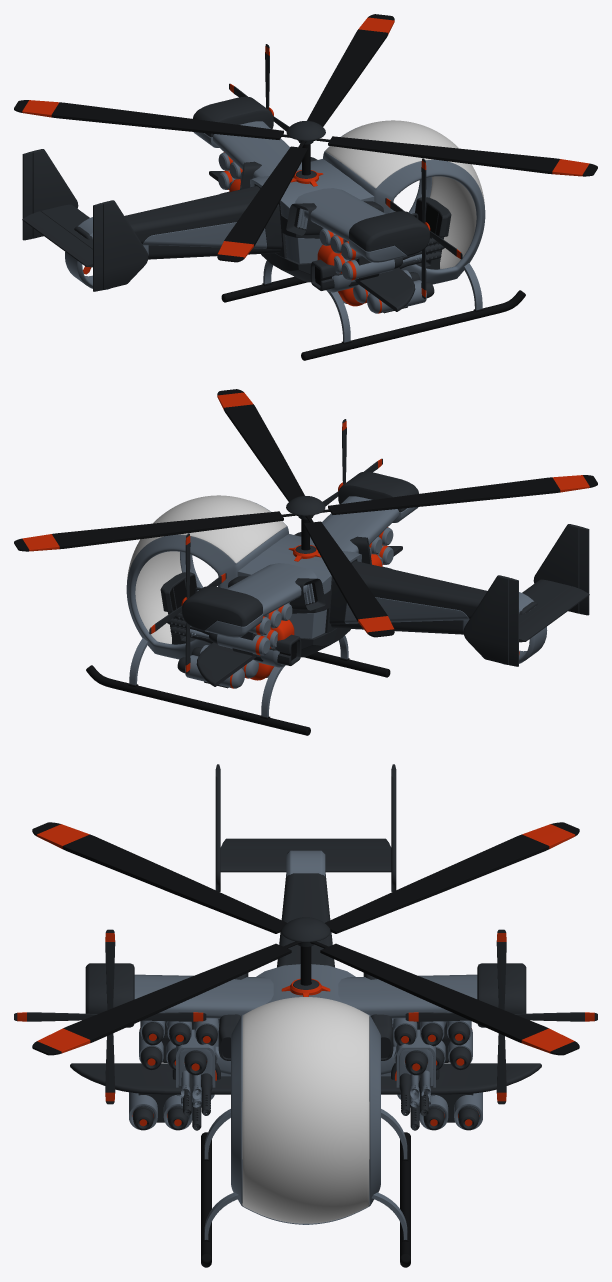
The model's file is modular-helicopter.obj.
3 renders of one model, top to bottom at view 1: azimuth 30°, elevation 25°; view 2: azimuth 150°, elevation 25°; view 3: azimuth 270°, elevation 25°, orthographic. The views are drawn at different scales.
Visible parts, largest first — view 1: Propeller_body_Cube.021, Tilt.TailEnd_Cube.004, Glass_Sphere.006, Tilt.Propeller_motor_Cube.009, Tilt.Wing_Cube.011, Cabin_Sphere, Tilt.Tail2_Cube.012, Ski_Cylinder.030, Tilt.Rocket_launchers_Cylinder.012, Body_top_Sphere.002, Tail_body_Cube.010, Tilt.Tail1_Cube.030 (+9 smaller); view 2: Propeller_body_Cube.021, Tilt.TailEnd_Cube.004, Glass_Sphere.006, Tilt.Propeller_motor_Cube.009, Tilt.Wing_Cube.011, Cabin_Sphere, Tilt.Tail2_Cube.012, Ski_Cylinder.030, Tilt.Rocket_launchers_Cylinder.012, Body_top_Sphere.002, Tail_body_Cube.010, Tilt.Tail1_Cube.030 (+9 smaller); view 3: Glass_Sphere.006, Propeller_body_Cube.021, Tilt.Wing_Cube.011, Tilt.TailEnd_Cube.004, Wing_Cube.002, Tilt.Propeller_Cube.013, Cabin_Sphere, Ski_Cylinder.030, Tilt.Propeller_motor_Cube.009, Rockets.001_Cylinder.006, Tilt.Tail2_Cube.012, Launcher1_Cube.014 (+10 smaller).
Boxes of the visible parts, <box> form: Propeller_body_Cube.021: <box>14,14,597,262</box>; Tilt.TailEnd_Cube.004: <box>22,149,148,291</box>; Glass_Sphere.006: <box>325,120,484,268</box>; Tilt.Propeller_motor_Cube.009: <box>192,96,429,262</box>; Tilt.Wing_Cube.011: <box>212,121,385,241</box>; Cabin_Sphere: <box>323,128,485,284</box>; Tilt.Tail2_Cube.012: <box>74,186,282,249</box>; Ski_Cylinder.030: <box>221,260,525,360</box>; Tilt.Rocket_launchers_Cylinder.012: <box>218,152,394,280</box>; Body_top_Sphere.002: <box>250,159,374,218</box>; Tail_body_Cube.010: <box>65,217,280,289</box>; Tilt.Tail1_Cube.030: <box>142,222,266,248</box>; Propeller_body_Cube.021: <box>14,389,597,637</box>; Tilt.TailEnd_Cube.004: <box>463,524,589,666</box>; Glass_Sphere.006: <box>127,495,286,643</box>; Tilt.Propeller_motor_Cube.009: <box>182,471,419,637</box>; Tilt.Wing_Cube.011: <box>226,496,399,616</box>; Cabin_Sphere: <box>126,503,288,659</box>; Tilt.Tail2_Cube.012: <box>329,561,537,624</box>; Ski_Cylinder.030: <box>86,635,390,735</box>; Tilt.Rocket_launchers_Cylinder.012: <box>217,527,393,655</box>; Body_top_Sphere.002: <box>237,534,361,593</box>; Tail_body_Cube.010: <box>331,592,547,664</box>; Tilt.Tail1_Cube.030: <box>345,597,469,623</box>; Glass_Sphere.006: <box>242,997,369,1223</box>; Propeller_body_Cube.021: <box>32,822,579,1055</box>; Tilt.Wing_Cube.011: <box>134,974,477,1018</box>; Tilt.TailEnd_Cube.004: <box>215,764,396,891</box>; Wing_Cube.002: <box>70,1063,541,1094</box>; Tilt.Propeller_Cube.013: <box>14,929,597,1104</box>; Cabin_Sphere: <box>231,1016,380,1224</box>; Ski_Cylinder.030: <box>201,1109,410,1267</box>; Tilt.Propeller_motor_Cube.009: <box>85,963,526,1027</box>; Rockets.001_Cylinder.006: <box>140,1022,471,1070</box>; Tilt.Tail2_Cube.012: <box>277,850,334,967</box>; Launcher1_Cube.014: <box>176,1029,435,1099</box>.
Size of the model in its own units: 8.48 by 3.85 by 7.77.
